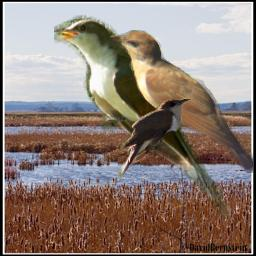Cuckoo: (54, 14, 232, 219), (109, 30, 254, 173), (118, 97, 191, 184)
